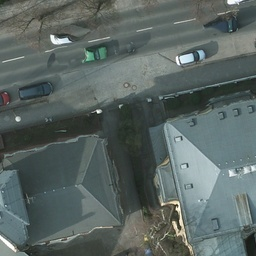car: (17, 80, 52, 101), (175, 47, 205, 69), (1, 89, 11, 109)
